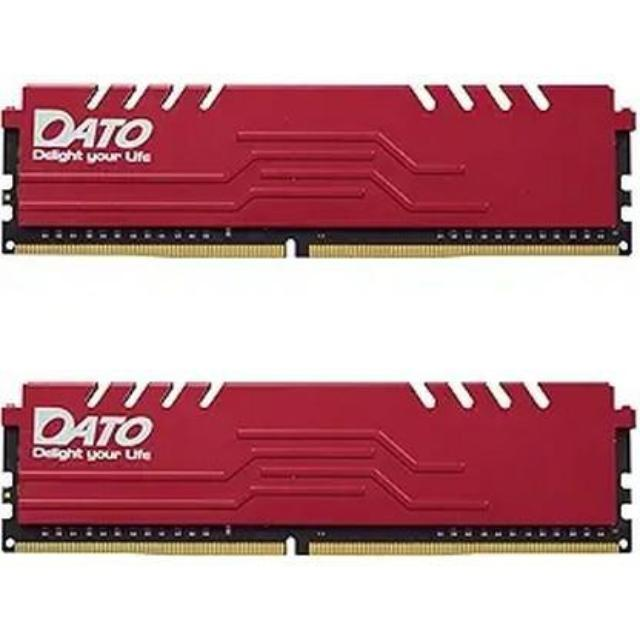RAM: (0, 70, 640, 272), (0, 372, 640, 562)
